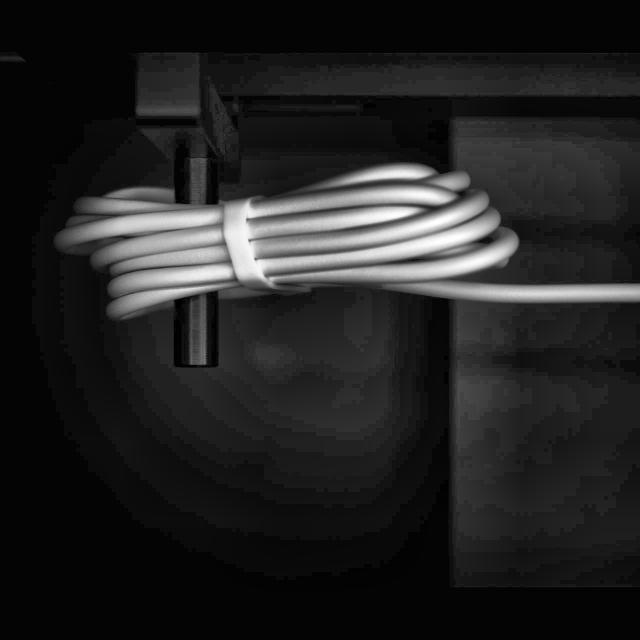Cable: (49, 159, 640, 325)
